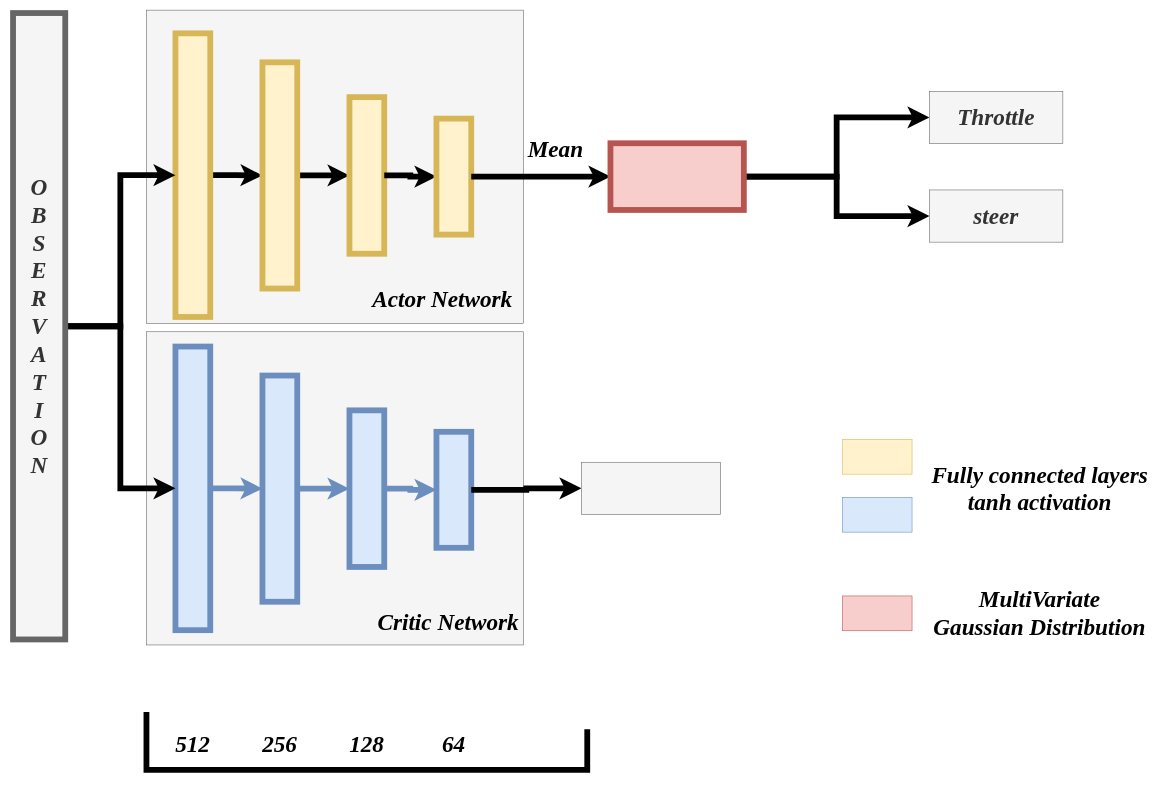
Image size: 1162x786. Some labels were removed from this diagram. Here are the shapes that lost their labels. From the top down, the centre of each, then its label:
At (676,176): "Action Sampling".
At (651,488): "Critic value".
